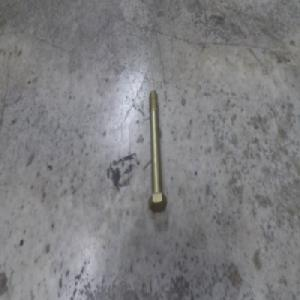Bolt: (145, 90, 167, 212)
